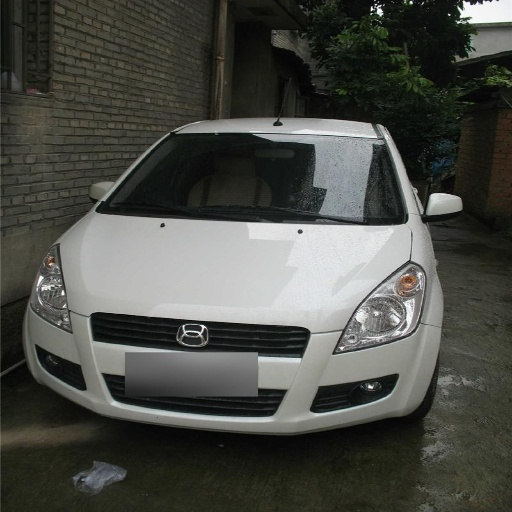front_bumper: (28, 297, 440, 434)
front_right_light: (31, 247, 71, 330)
hood: (60, 212, 412, 328)
